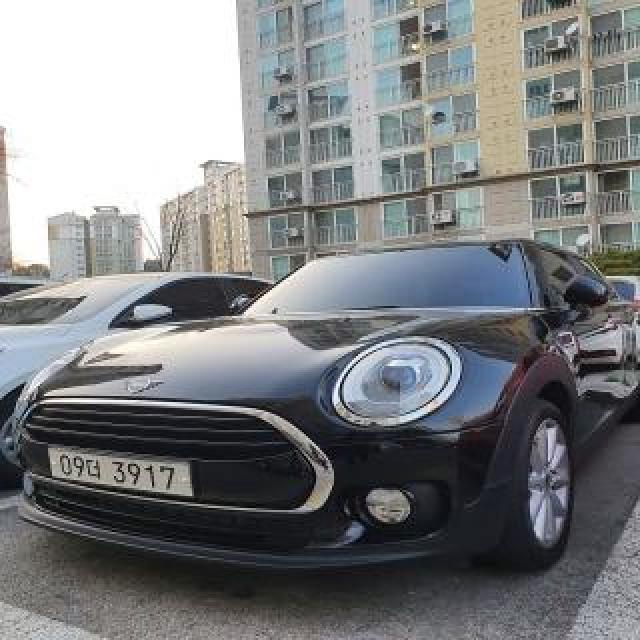car: (5, 227, 640, 580)
illegal_plate: (45, 443, 196, 504)
